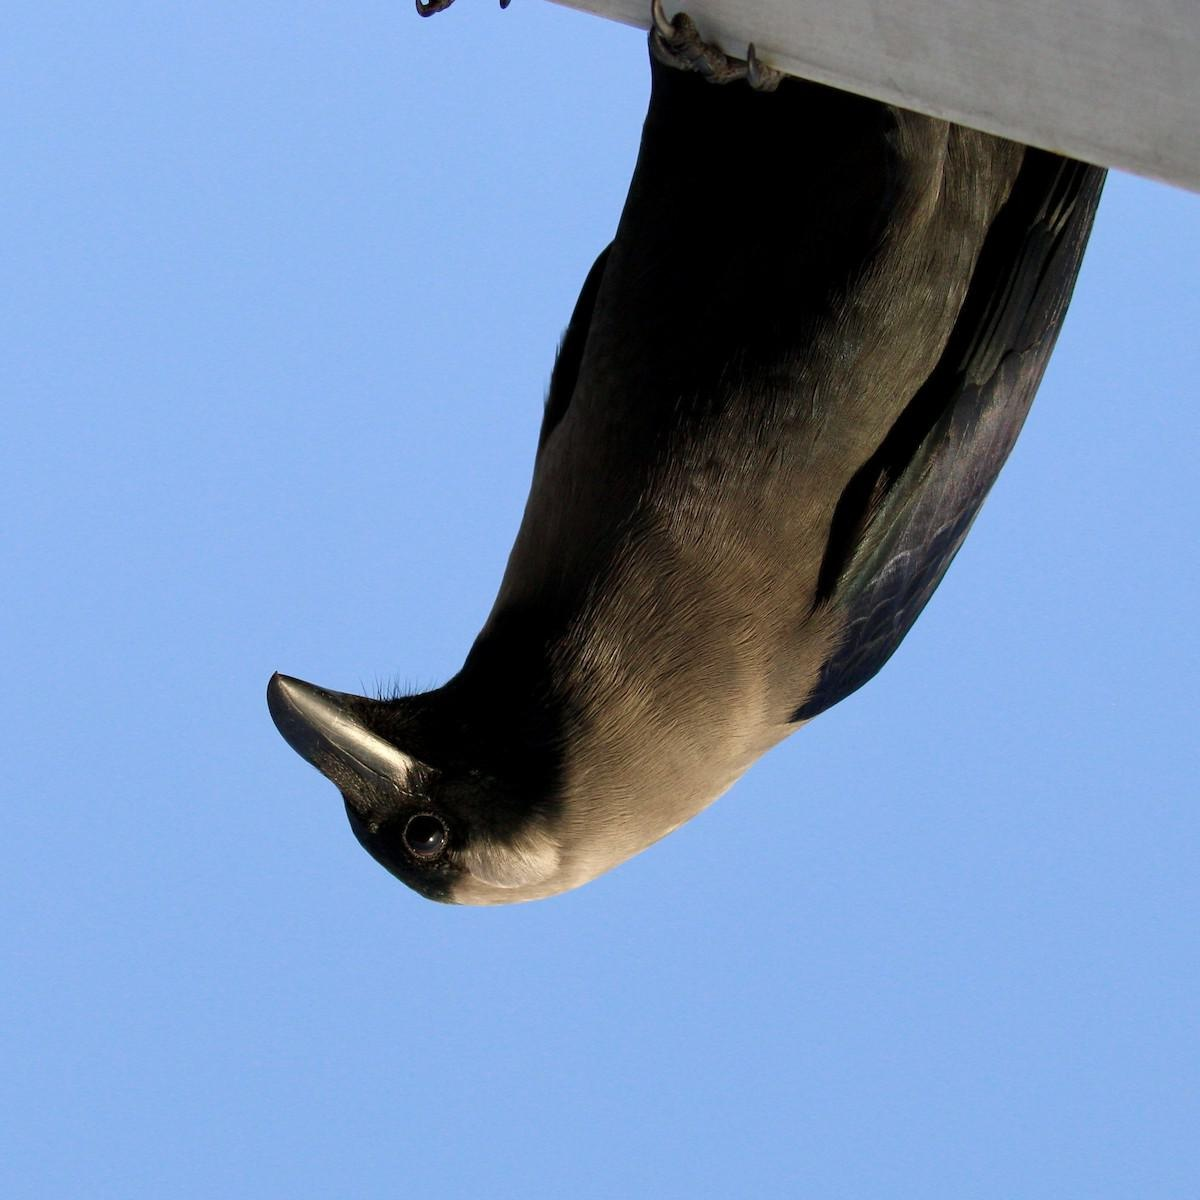crow: (244, 88, 1127, 916)
